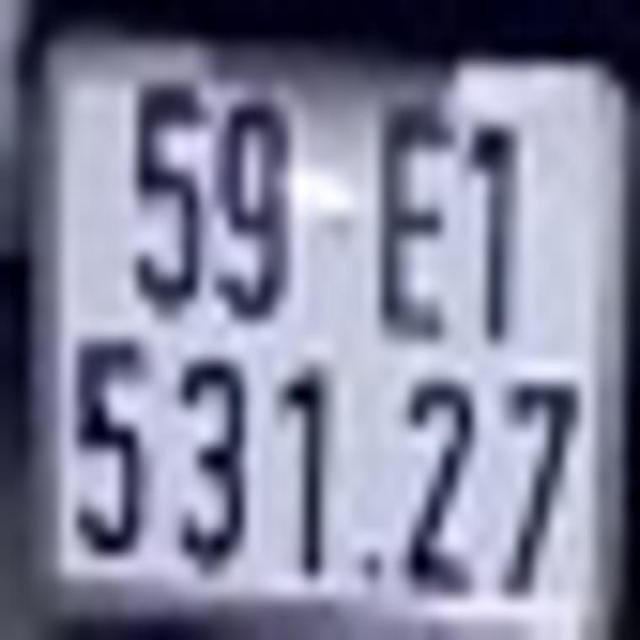1: (468, 119, 516, 332), (278, 370, 325, 572)
2: (408, 378, 489, 588)
3: (183, 354, 250, 564)
5: (134, 84, 204, 294), (82, 340, 142, 556)
7: (514, 373, 578, 612)
9: (222, 100, 286, 310)
E: (384, 107, 446, 336)
